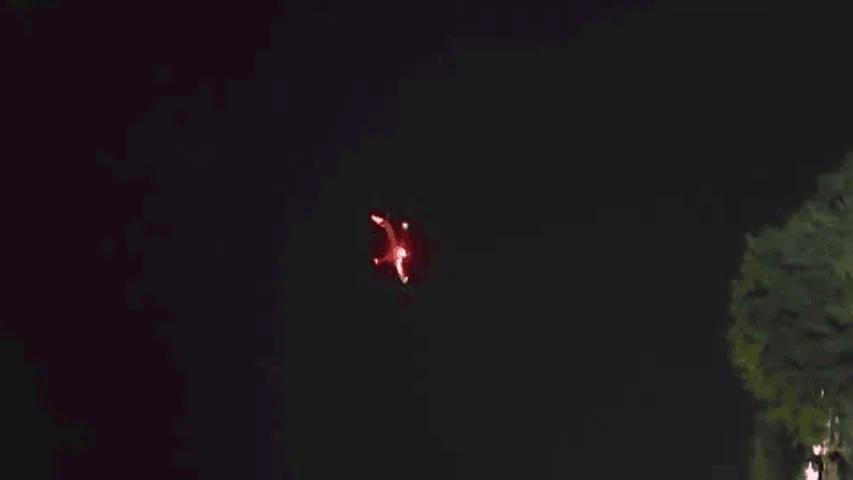Plane: (346, 180, 429, 295)
